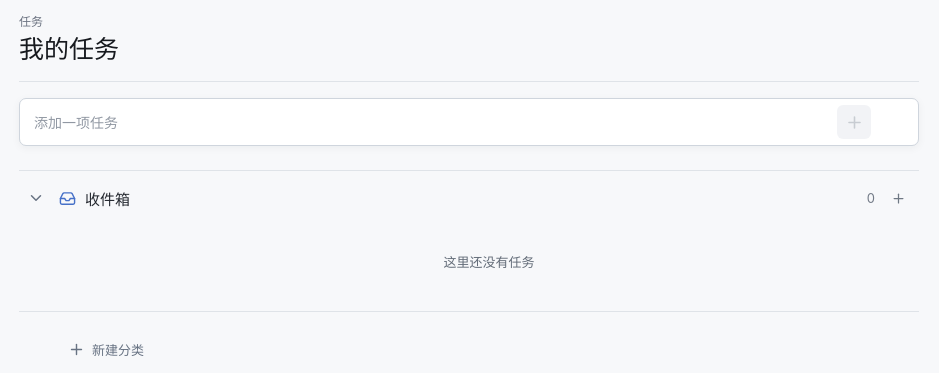
Test: WorkspaceProvider › does not submit Enter while an IME composition is active
Type "中文" into the field named "快速添加任务" at (436, 122), box 34,104 -> 837,140
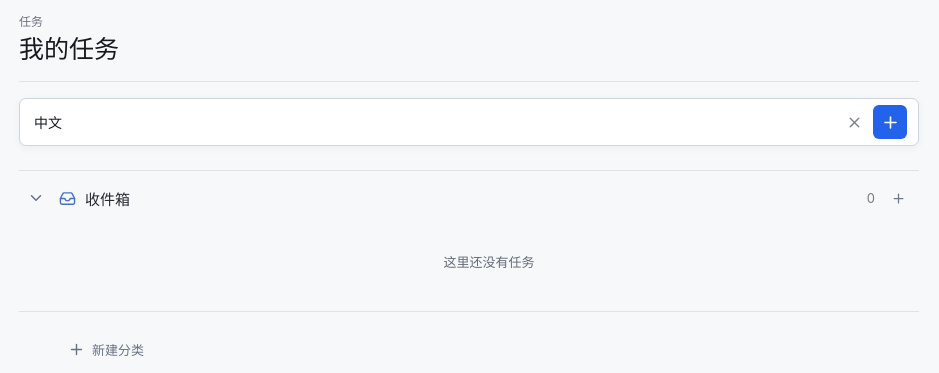
Press Enter in the field named "快速添加任务", box 34,104 -> 837,140
Press Enter in the field named "快速添加任务", box 34,104 -> 837,140
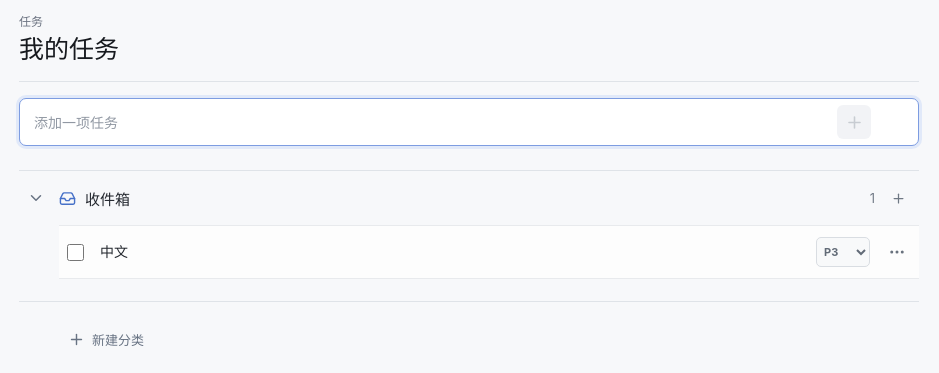
Expected: the text "中文" is shown, 100,243 -> 128,260
